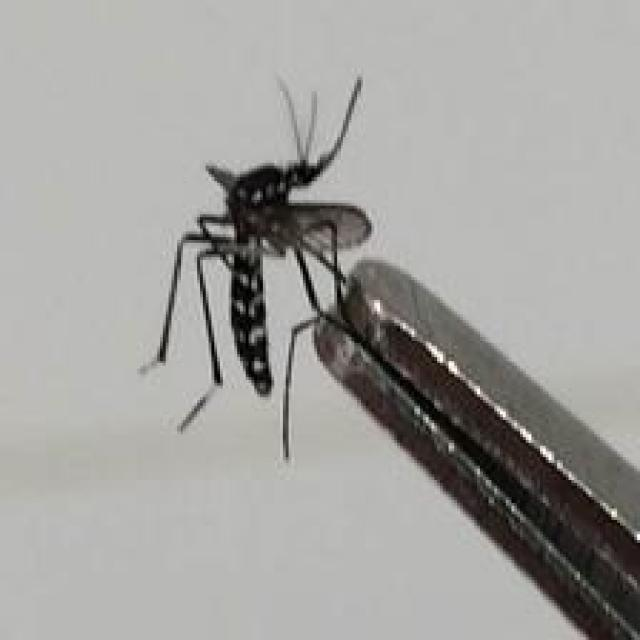Aedes albopictus: (137, 71, 640, 640)
